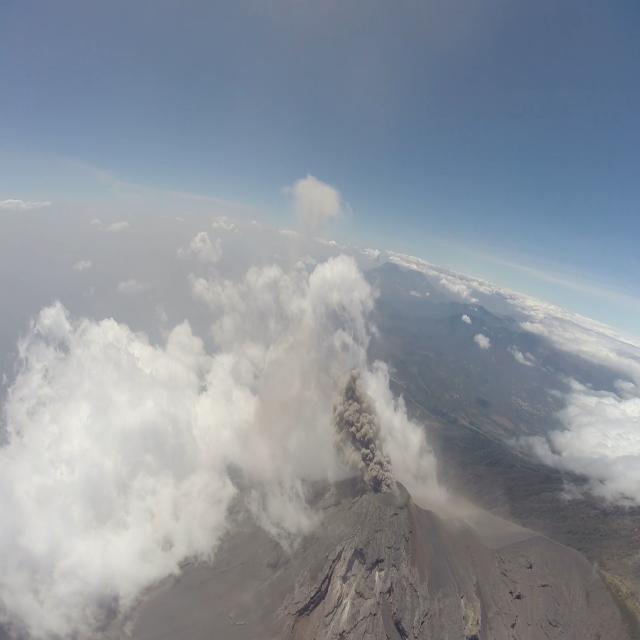Plume: (324, 362, 400, 494)
Summit: (240, 456, 490, 637)
